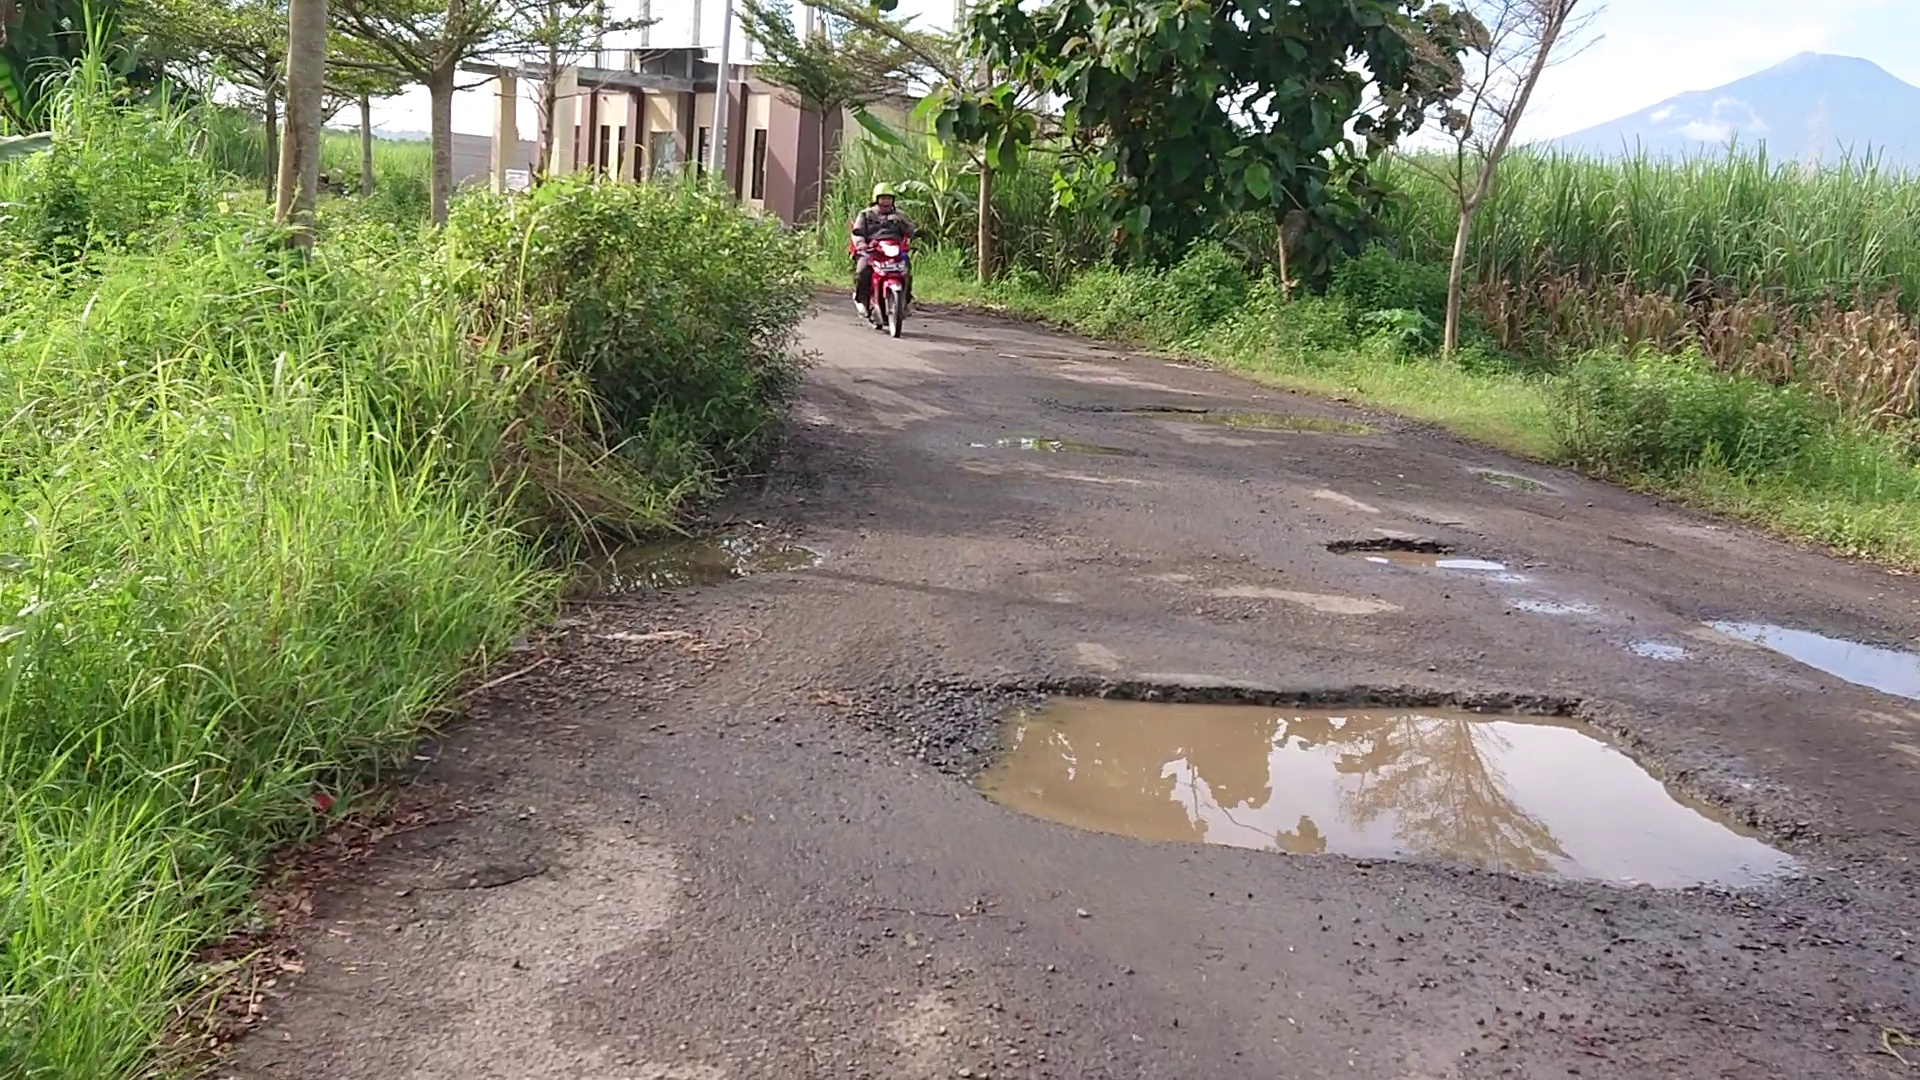Berlubang: (981, 698, 1767, 882), (1691, 607, 1920, 712), (1153, 397, 1369, 443), (1336, 524, 1501, 578)
